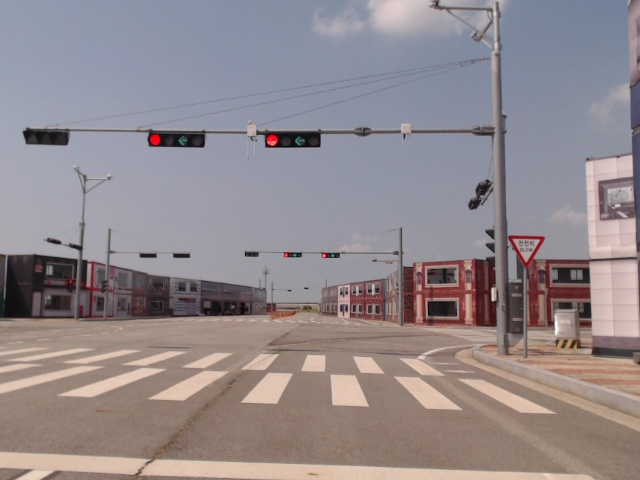left_green_4: (266, 132, 320, 149), (149, 133, 205, 147), (283, 252, 301, 257), (323, 253, 339, 258)
